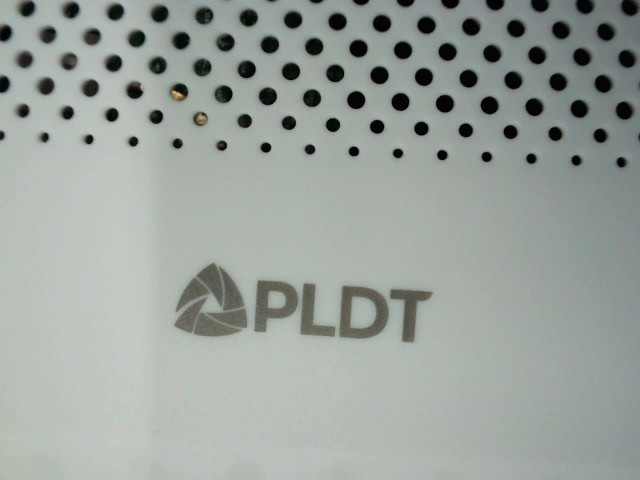BH_PLDT: (148, 241, 455, 351)
